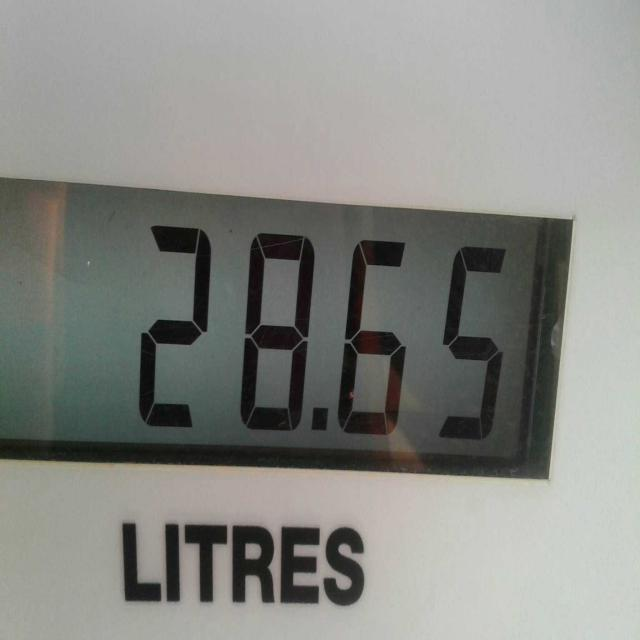.: (306, 394, 332, 457)
2: (114, 200, 213, 428)
6: (335, 233, 413, 462), (429, 236, 512, 450)
8: (229, 222, 310, 448)
